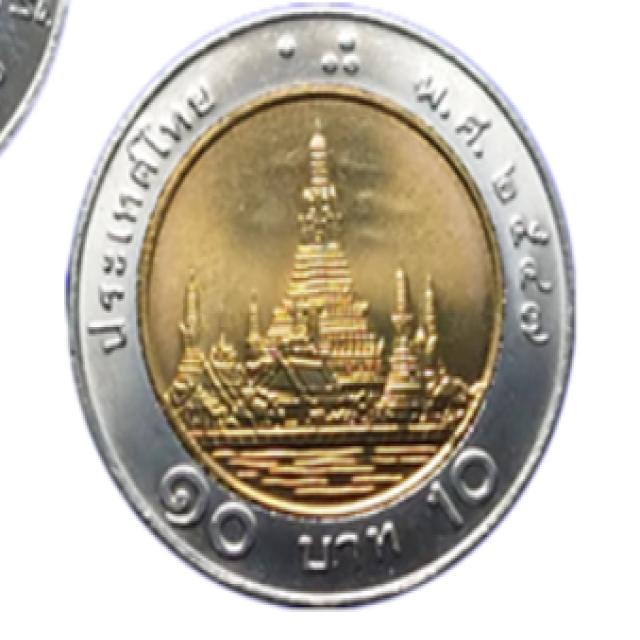10 Bath: (42, 1, 595, 622)
